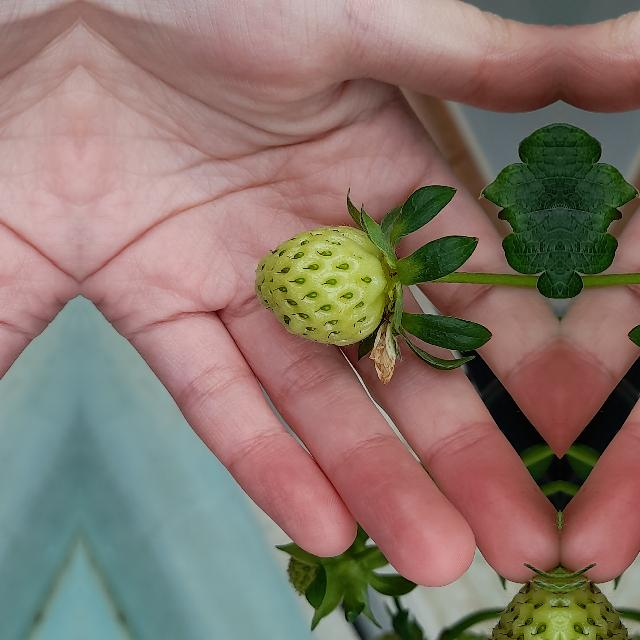Health_25: (254, 226, 388, 346)
